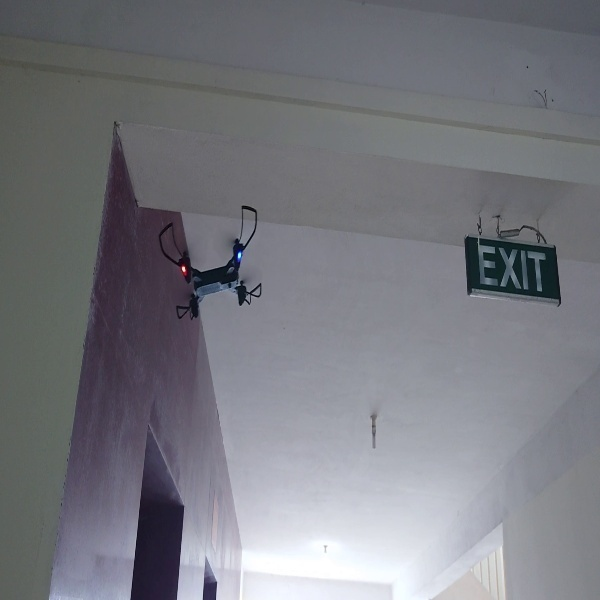drone: (156, 202, 277, 322)
